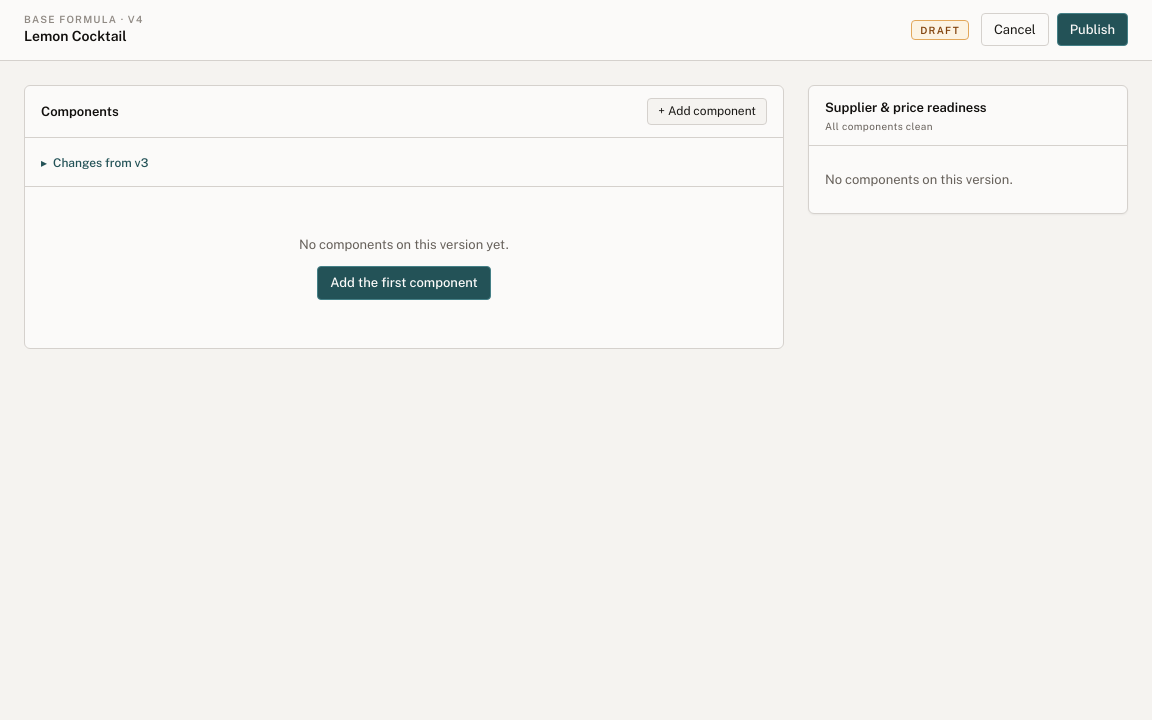
BomDraftEditorPage — Add line drawer › clicking [+ Add component] opens the drawer
Click the button "+ Add component" at (707, 111), box left=647, top=98, right=767, bottom=125
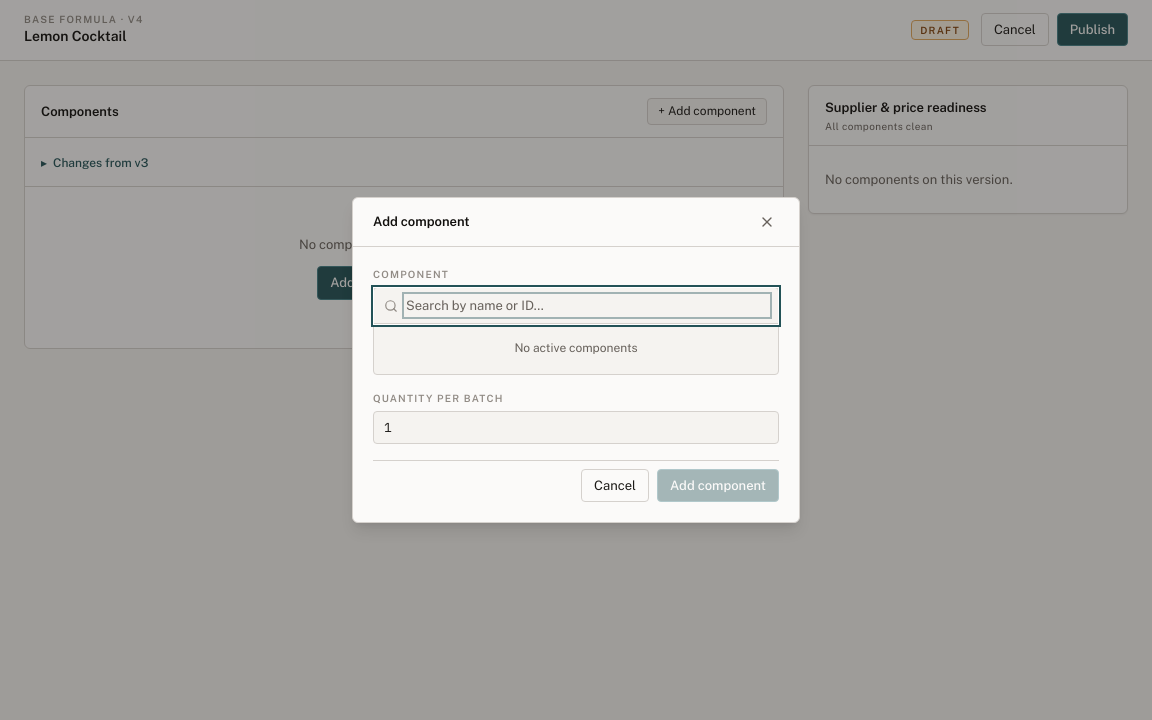
Expected: the dialog "Add component" is shown
